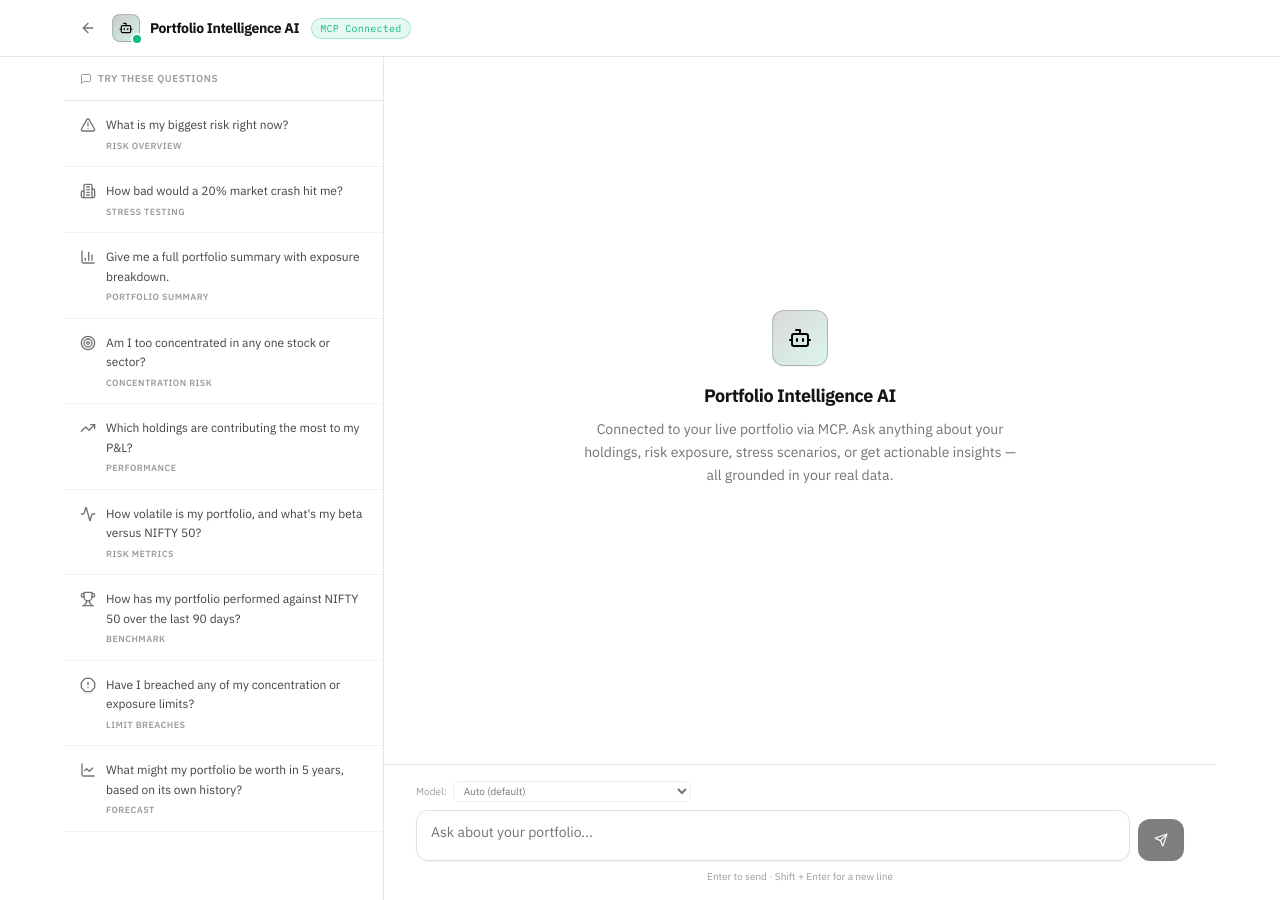
Test: PortfolioAI typewriter pacing › types the answer out progressively when motion is allowed, then shows it in full
In the text box with placeholder "Ask about your portfolio...": (773, 832) [421,811,1125,854], type "How risky am I?"
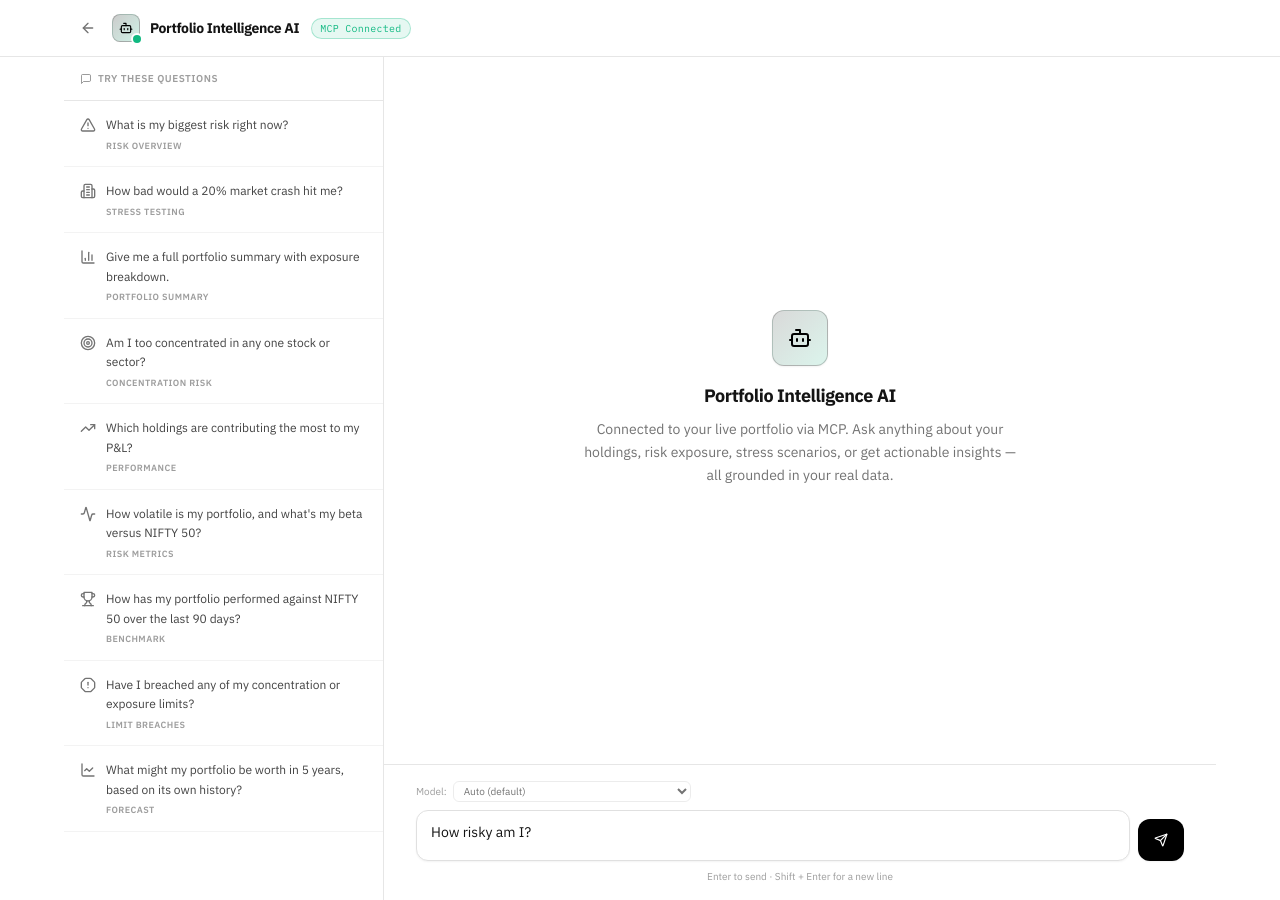
Submit the form with placeholder "Ask about your portfolio...", box [416,810,1184,861]
Wait 1584 ms
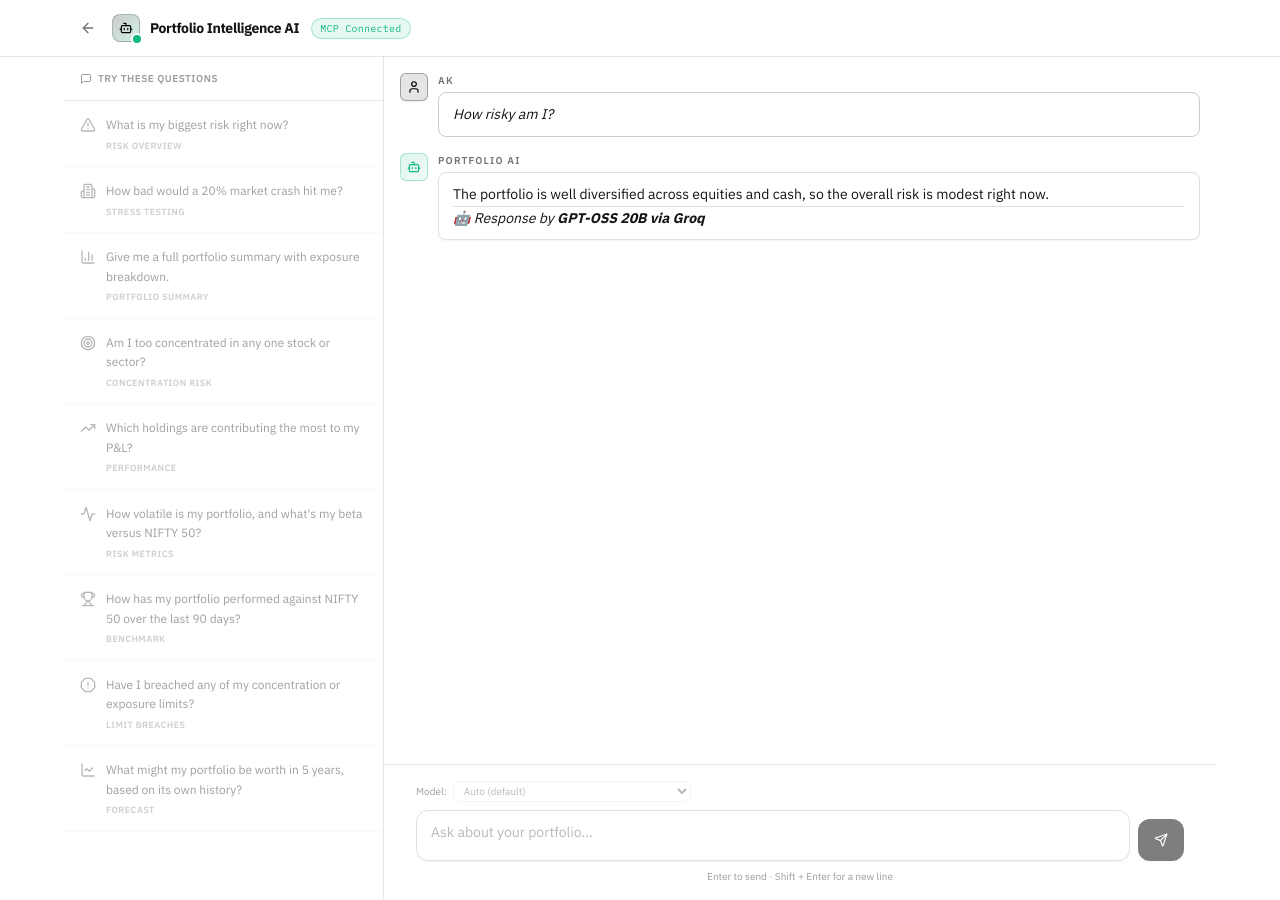
Expected: the text "The portfolio" shows "The portfolio is well diversified across equities and cash, so the overall risk is modest right now.", [453,185,1049,203]
Expected: the text "GPT-OSS 20B via Groq" is shown, [557,208,705,226]
